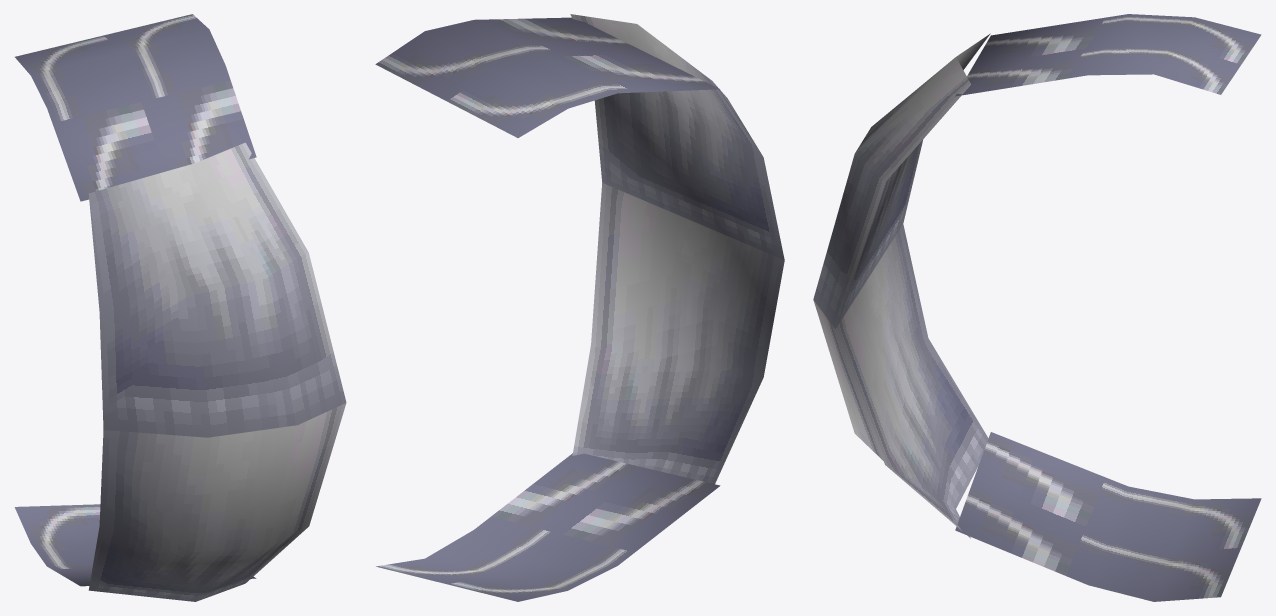
File: acc_mask_nml.dae
The picture shows the model from 3 angles, left to right: view 1: azimuth 30°, elevation 25°; view 2: azimuth 150°, elevation 25°; view 3: azimuth 270°, elevation 25°; orthographic projection. The views are drawn at different scales.
Parts seen in each view (by area): view 1: acc_mask_nml; view 2: acc_mask_nml; view 3: acc_mask_nml.
Boxes of the visible parts, x1,y1,x2,y2 form: acc_mask_nml: [14, 14, 346, 601]; acc_mask_nml: [375, 14, 784, 601]; acc_mask_nml: [813, 14, 1261, 601].
Bounding box in the file's own units: 11.02 × 22.15 × 17.07.
2 materials, 2 textured.
